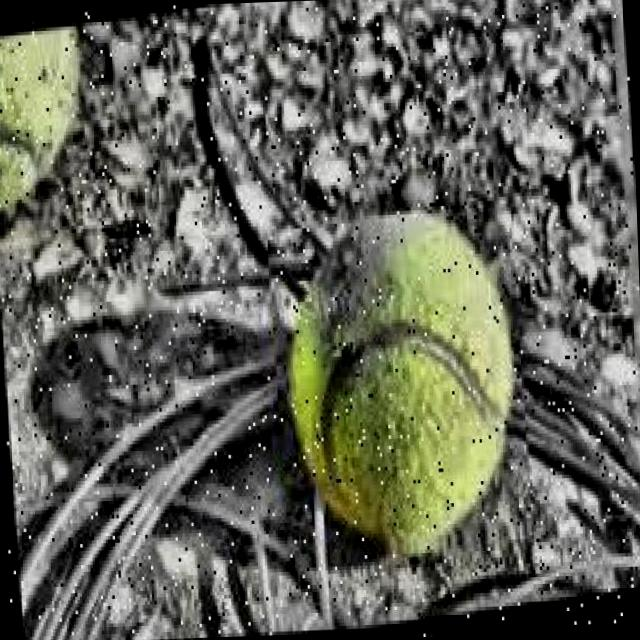Tennis Ball: (264, 202, 535, 574), (0, 22, 94, 228)
